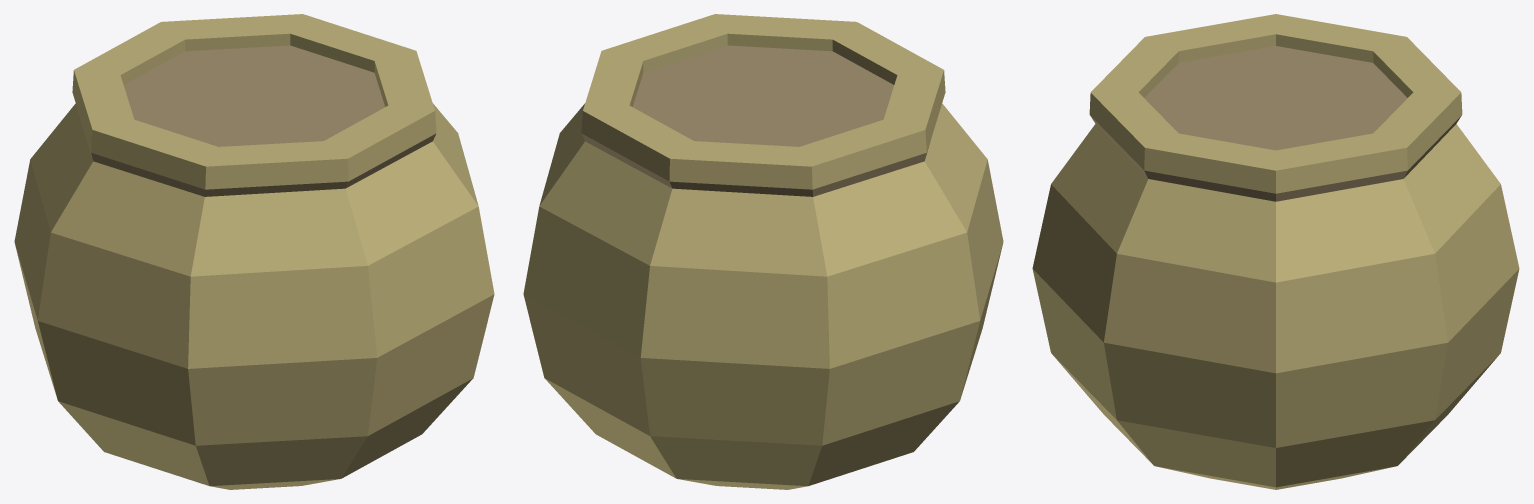
File: pot.glb
3 views of the same model, side by side, from view 1: azimuth 30°, elevation 25°; view 2: azimuth 150°, elevation 25°; view 3: azimuth 270°, elevation 25° (orthographic).
Parts seen in each view (by area): view 1: Sphere.103; view 2: Sphere.103; view 3: Sphere.103.
Boxes of the visible parts, x1=… form: Sphere.103: x1=14, y1=14, x2=494, y2=489; Sphere.103: x1=523, y1=14, x2=1003, y2=489; Sphere.103: x1=1032, y1=14, x2=1519, y2=489.
Bounding box in the file's own units: 0.0961 × 0.0765 × 0.0943.
